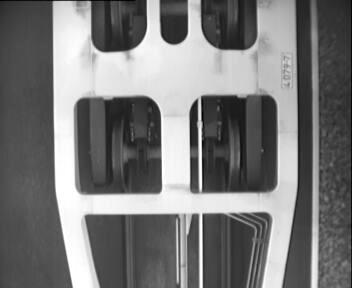twist_lock_2: (83, 1, 265, 58)
